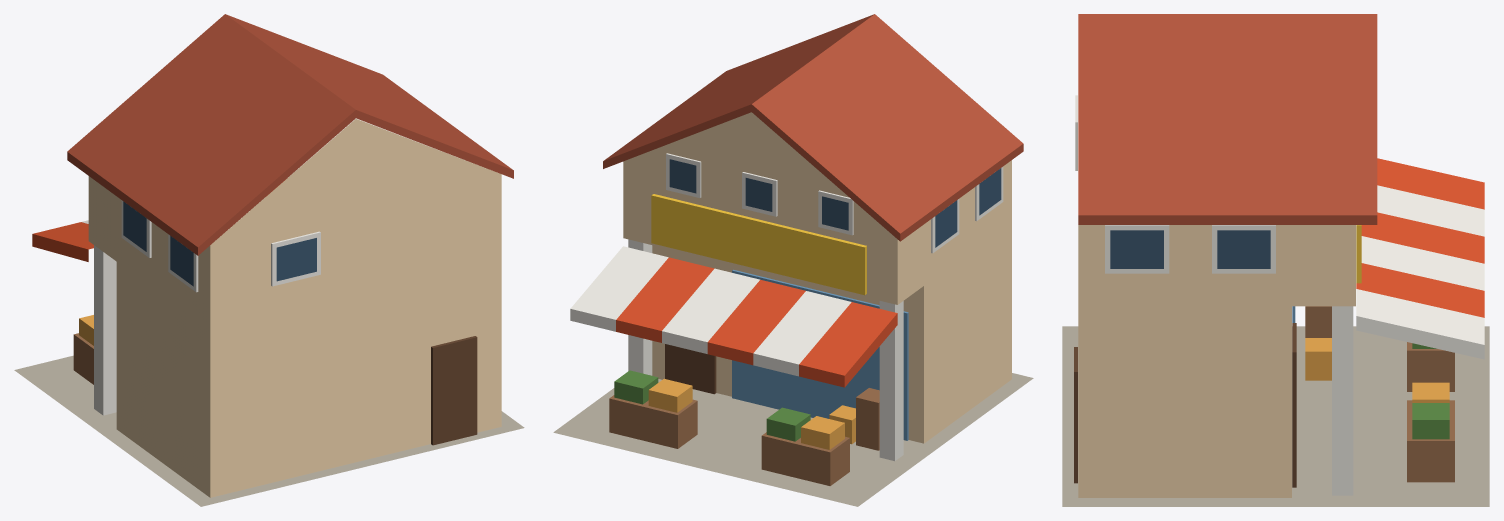
The picture shows the model from 3 angles, left to right: view 1: azimuth 30°, elevation 25°; view 2: azimuth 150°, elevation 25°; view 3: azimuth 270°, elevation 25°; orthographic projection. The views are drawn at different scales.
Parts seen in each view (by area): view 1: ground_floor, roof, walls, forecourt, door, post, window_glass (×3), awning, window_frame, stall; view 2: roof, awning (×6), walls, ground_floor, forecourt, sign, stall (×2), storefront, post (×2), produce (×4), window_glass (×5), crate (×3) (+2 smaller); view 3: roof, ground_floor, forecourt, awning (×6), walls, stall (×2), window_glass (×2), post, window_frame (×2), produce (×2), crate (×2), door (×2).
Boxes of the visible parts, left/top/right/bottom form: ground_floor: left=116, top=259, right=501, bottom=497; roof: left=67, top=14, right=513, bottom=255; walls: left=88, top=119, right=501, bottom=329; forecourt: left=14, top=355, right=524, bottom=506; door: left=431, top=336, right=477, bottom=445; post: left=94, top=245, right=116, bottom=415; window_glass (×3): left=123, top=201, right=316, bottom=286; awning: left=32, top=222, right=93, bottom=261; window_frame: left=271, top=231, right=320, bottom=286; stall: left=73, top=333, right=93, bottom=384; roof: left=603, top=14, right=1023, bottom=241; awning (×6): left=570, top=246, right=897, bottom=387; walls: left=623, top=112, right=1011, bottom=304; ground_floor: left=652, top=221, right=1011, bottom=443; forecourt: left=553, top=373, right=1033, bottom=506; sign: left=651, top=194, right=866, bottom=295; stall (×2): left=609, top=395, right=849, bottom=485; storefront: left=732, top=269, right=908, bottom=440; post (×2): left=628, top=239, right=903, bottom=461; produce (×4): left=614, top=370, right=844, bottom=449; window_glass (×5): left=669, top=159, right=1001, bottom=247; crate (×3): left=829, top=388, right=879, bottom=450; roof: left=1078, top=14, right=1377, bottom=224; ground_floor: left=1078, top=306, right=1291, bottom=497; forecourt: left=1062, top=326, right=1489, bottom=506; awning (×6): left=1356, top=158, right=1484, bottom=359; walls: left=1078, top=225, right=1355, bottom=306; stall (×2): left=1407, top=342, right=1454, bottom=482; window_glass (×2): left=1110, top=230, right=1270, bottom=268; post: left=1332, top=306, right=1353, bottom=495; window_frame (×2): left=1105, top=225, right=1275, bottom=273; produce (×2): left=1412, top=382, right=1449, bottom=439; crate (×2): left=1305, top=306, right=1331, bottom=380; door (×2): left=1074, top=323, right=1296, bottom=487.
Size of the model in its own units: 8 by 8.36 by 8.
